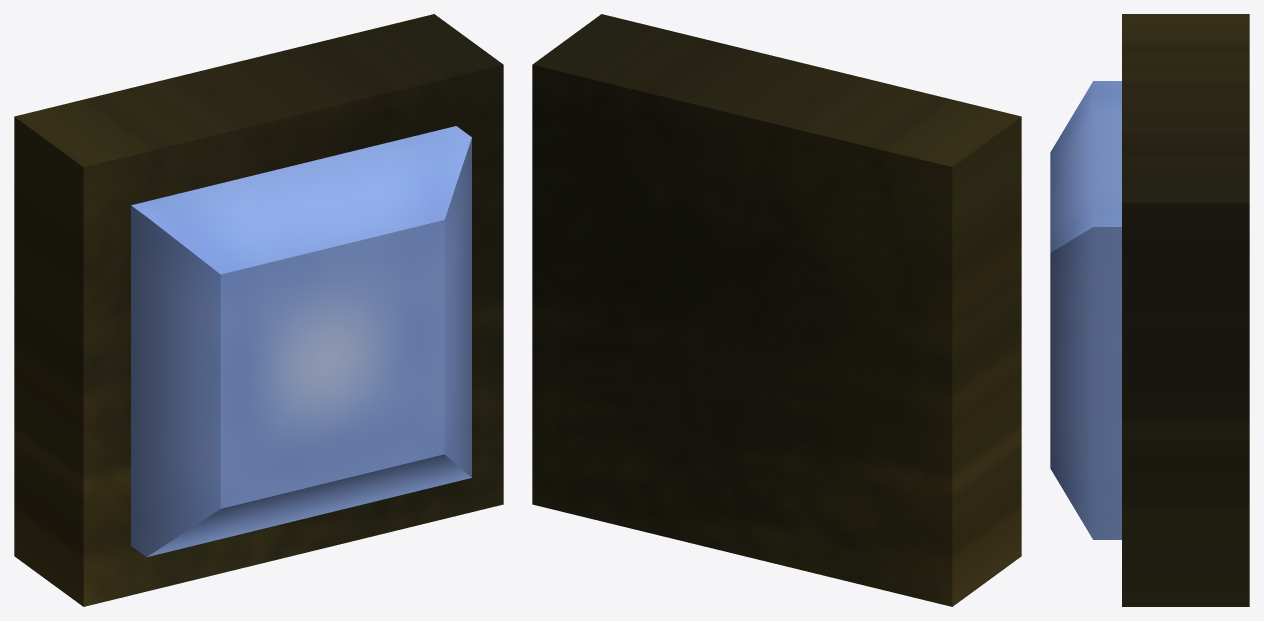
File: BlueButton.fbx
3 renders of one model, left to right at view 1: azimuth 30°, elevation 25°; view 2: azimuth 150°, elevation 25°; view 3: azimuth 270°, elevation 25°, orthographic. The views are drawn at different scales.
Parts seen in each view (by area): view 1: base3, lit3; view 2: base3; view 3: base3, lit3.
Boxes of the visible parts, x1,y1,x2,y2 form: base3: (14,14,503,606); lit3: (131,126,471,557); base3: (532,14,1021,606); base3: (1122,14,1249,606); lit3: (1050,81,1121,539).
Bounding box in the file's own units: 0.4559 × 0.4559 × 0.2036.
1 material, 1 textured.
